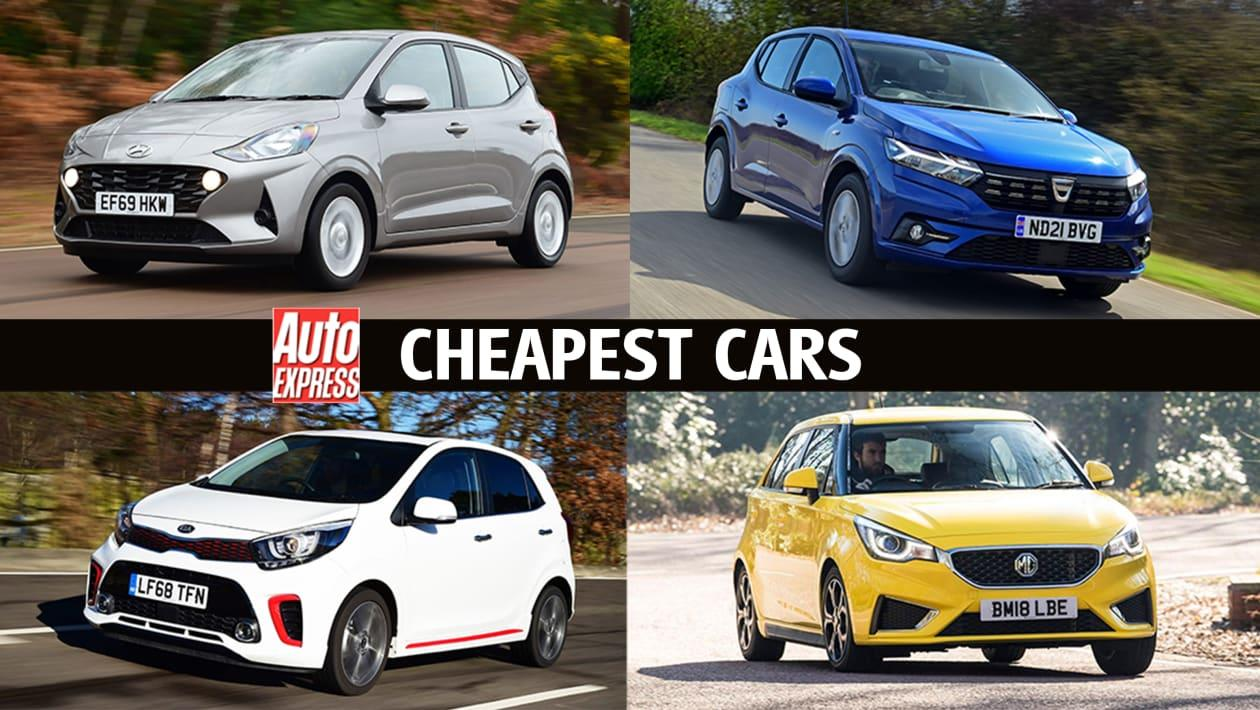windshield: (837, 26, 1074, 130), (846, 416, 1102, 510), (201, 426, 442, 510), (157, 30, 392, 114)
